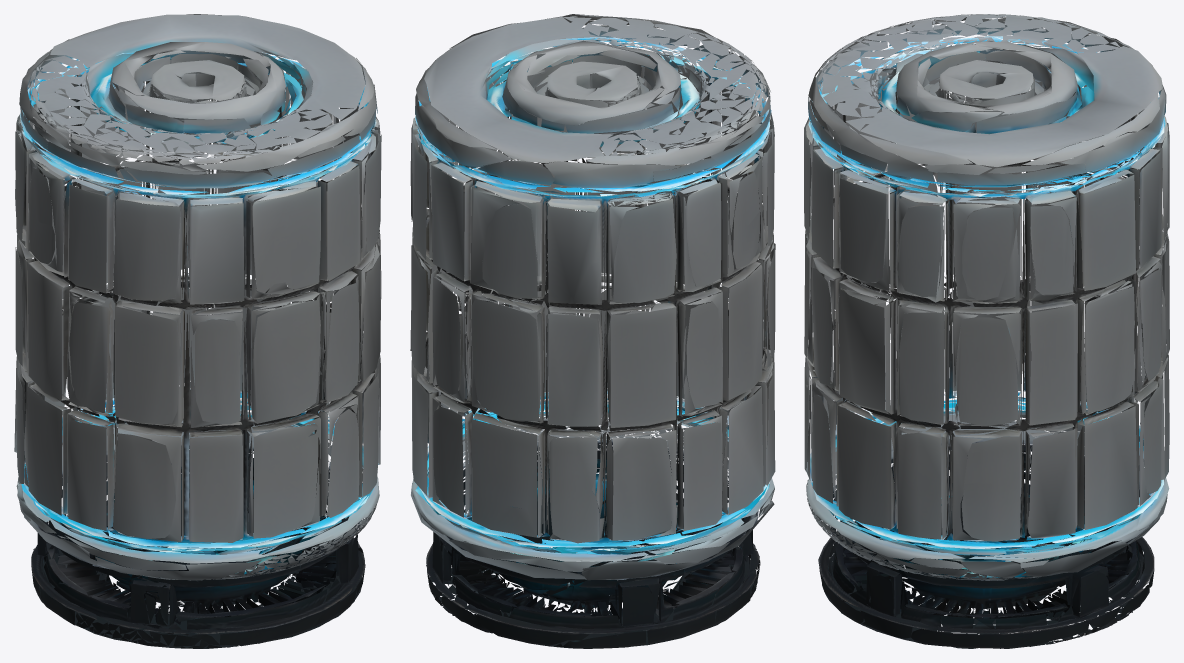
The model's file is ec60e_grenade.glb.
3 views of the same model, side by side, from view 1: azimuth 30°, elevation 25°; view 2: azimuth 150°, elevation 25°; view 3: azimuth 270°, elevation 25° (orthographic).
Parts seen in each view (by area): view 1: node_0; view 2: node_0; view 3: node_0.
Part boxes in pixels (box(x1,y1,x2,y2)): node_0: box(14, 14, 381, 648); node_0: box(410, 14, 775, 648); node_0: box(804, 14, 1169, 648).
Bounding box in the file's own units: 0.0597 × 0.0919 × 0.0601.
1 material, 1 textured.
